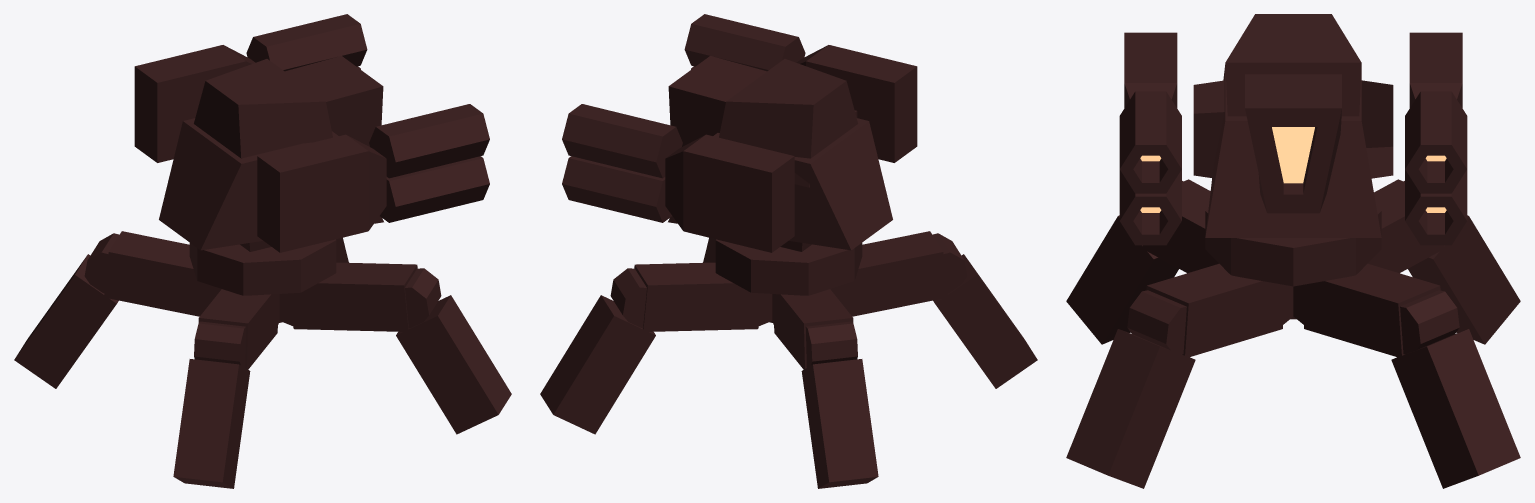
The model's file is Attacker0.fbx.
The picture shows the model from 3 angles, left to right: view 1: azimuth 30°, elevation 25°; view 2: azimuth 150°, elevation 25°; view 3: azimuth 270°, elevation 25°; orthographic projection. The views are drawn at different scales.
Parts seen in each view (by area): view 1: Cube.014, Cube, Cube.001, Cube.013, Cube.011, Cube.004, Cube.012, Cube.008, Cylinder.002, Cylinder.011, Cube.009, Cube.002 (+6 smaller); view 2: Cube.004, Cube.001, Cube, Cube.007, Cube.009, Cube.014, Cube.006, Cube.010, Cylinder.002, Cylinder.001, Cube.011, Cube.002 (+6 smaller); view 3: Cube, Cube.007, Cube.013, Cube.002, Cube.001, Cube.012, Cube.006, Cylinder.002, Cube.011, Cube.009, Cylinder.011, Cylinder.001 (+8 smaller).
Part boxes in pixels (x1,y1,x2,y2): Cube.014: (257, 134, 386, 252); Cube: (159, 110, 383, 250); Cube.001: (194, 59, 332, 158); Cube.013: (396, 295, 511, 434); Cube.011: (173, 359, 250, 488); Cube.004: (134, 45, 255, 162); Cube.012: (290, 262, 417, 331); Cube.008: (104, 231, 221, 316); Cylinder.002: (189, 239, 336, 295); Cylinder.011: (369, 104, 489, 178); Cube.009: (14, 254, 118, 388); Cube.002: (285, 56, 383, 146); Cube.004: (665, 134, 794, 252); Cube.001: (719, 59, 857, 187); Cube: (668, 110, 892, 250); Cube.007: (540, 295, 655, 434); Cube.009: (801, 359, 878, 488); Cube.014: (796, 45, 917, 162); Cube.006: (634, 262, 761, 331); Cube.010: (830, 231, 947, 316); Cylinder.002: (715, 239, 862, 295); Cylinder.001: (562, 104, 682, 178); Cube.011: (933, 254, 1037, 388); Cube.002: (668, 56, 766, 146); Cube: (1193, 65, 1393, 237); Cube.007: (1391, 329, 1520, 488); Cube.013: (1066, 329, 1195, 488); Cube.002: (1245, 74, 1341, 213); Cube.001: (1225, 14, 1361, 116); Cube.012: (1146, 263, 1285, 358); Cube.006: (1301, 263, 1440, 357); Cylinder.002: (1205, 205, 1381, 286); Cube.011: (1066, 215, 1178, 344); Cube.009: (1408, 215, 1520, 344); Cylinder.011: (1119, 91, 1181, 193); Cylinder.001: (1405, 91, 1467, 193).
Size of the model in its own units: 5.15 by 5.15 by 4.64.
